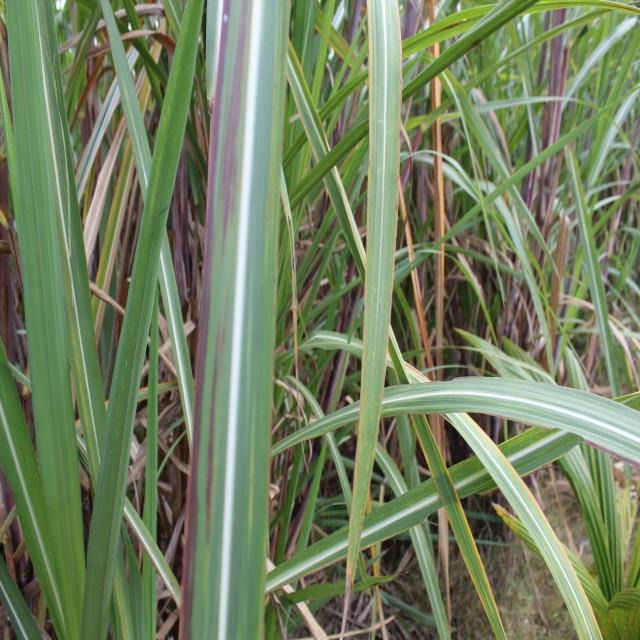Sugarcane: (76, 0, 209, 640), (185, 0, 311, 640), (309, 1, 640, 228), (521, 82, 638, 610), (1, 0, 97, 640), (338, 0, 404, 640), (306, 375, 638, 493), (413, 414, 513, 640), (460, 6, 636, 117), (303, 482, 452, 598), (89, 92, 146, 381), (444, 67, 524, 262), (133, 3, 207, 212), (323, 247, 462, 355), (488, 176, 566, 367), (572, 13, 640, 214), (566, 150, 620, 402), (396, 3, 524, 100), (92, 1, 154, 192), (152, 222, 194, 460), (289, 425, 336, 607), (75, 67, 126, 214), (286, 24, 330, 187), (318, 163, 366, 306), (309, 56, 375, 152), (451, 331, 554, 390), (61, 0, 108, 128), (0, 9, 23, 236), (274, 401, 358, 459), (307, 1, 345, 127), (300, 329, 359, 361)
